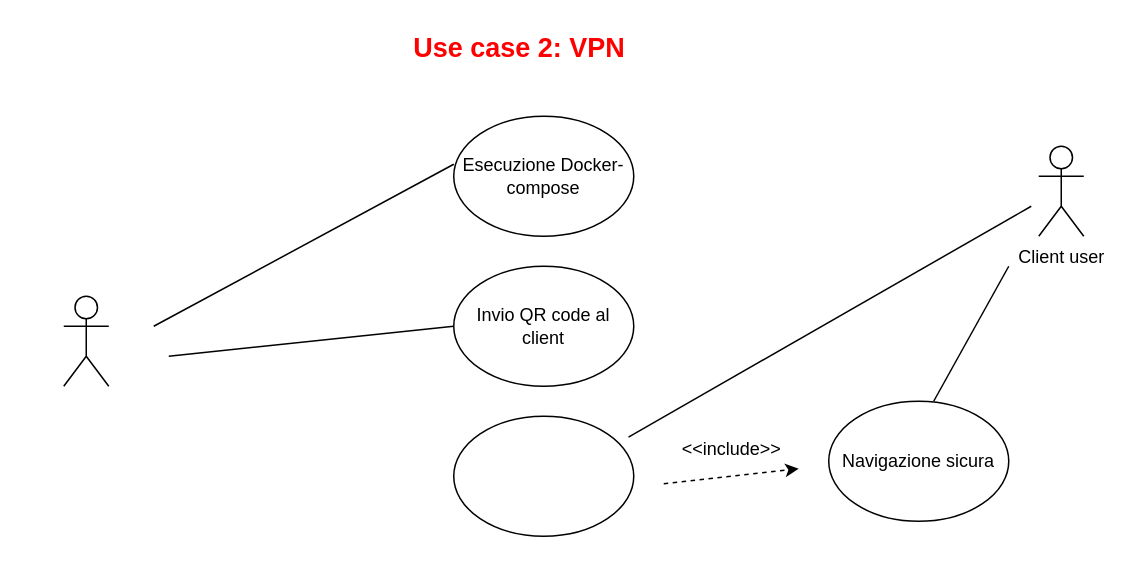
The diagram is 1130 pixels wide and 563 high, and some of its shapes have lost their labels. Each missing label, with the centre of its shape:
Collegamento al canale cifrato: (x=543, y=475)
Network admin: (x=85, y=340)
